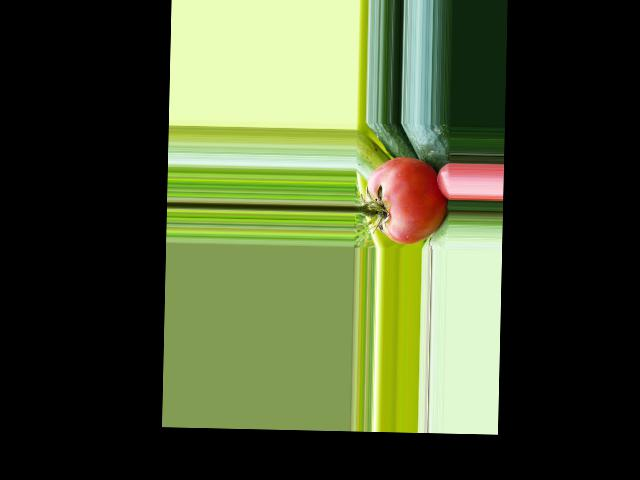tomato: (366, 156, 448, 245)
